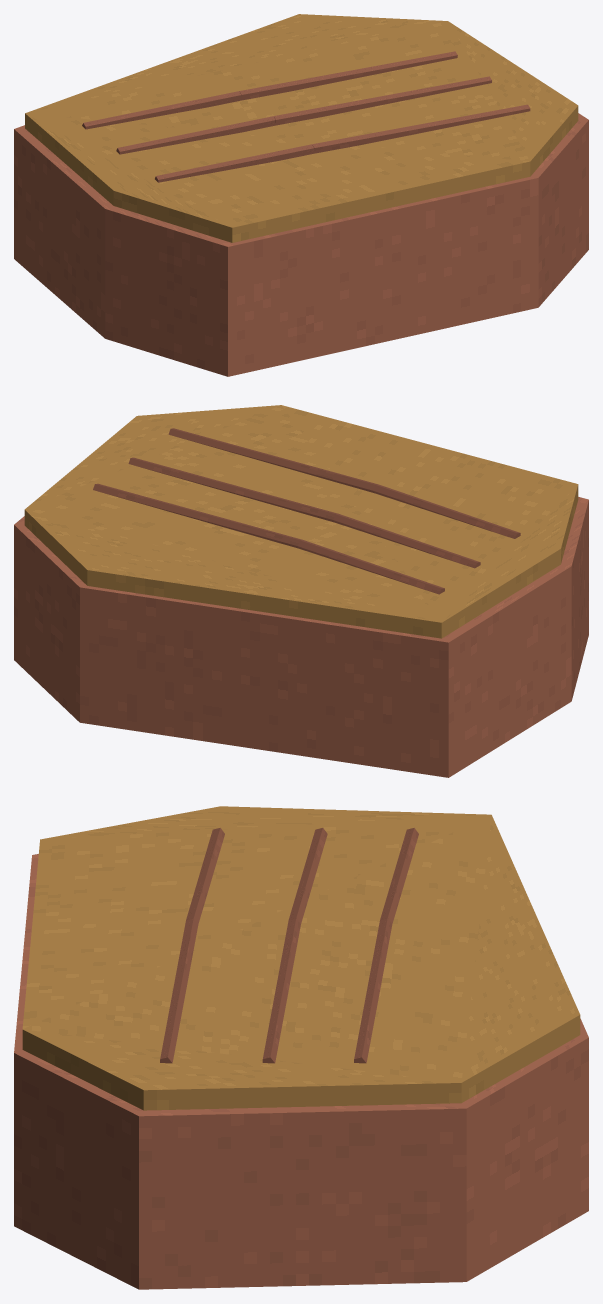
Rendered from royal_beef.glb.
3 views of the same model, one above another, from view 1: azimuth 30°, elevation 25°; view 2: azimuth 150°, elevation 25°; view 3: azimuth 270°, elevation 25° (orthographic). The views are drawn at different scales.
Visible parts, largest first — view 1: block_cut meat surface, block_outer glaze or rind, block_rind grain 1 (×3), block_rind grain 0 (×3); view 2: block_cut meat surface, block_outer glaze or rind, block_rind grain 1 (×3), block_rind grain 0 (×3); view 3: block_outer glaze or rind, block_cut meat surface, block_rind grain 1 (×3), block_rind grain 0 (×3).
Part boxes in pixels (x1,y1,x2,y2): block_cut meat surface: [14, 113, 588, 376]; block_outer glaze or rind: [25, 14, 578, 242]; block_rind grain 1 (×3): [239, 51, 530, 153]; block_rind grain 0 (×3): [82, 91, 314, 182]; block_cut meat surface: [14, 497, 588, 777]; block_outer glaze or rind: [24, 405, 578, 638]; block_rind grain 1 (×3): [93, 428, 378, 548]; block_rind grain 0 (×3): [298, 484, 520, 594]; block_outer glaze or rind: [22, 806, 580, 1110]; block_cut meat surface: [14, 854, 588, 1289]; block_rind grain 1 (×3): [160, 918, 392, 1063]; block_rind grain 0 (×3): [186, 828, 418, 923].
Size of the model in its own units: 0.1508 by 0.0486 by 0.1239.
1 material, 1 textured.
